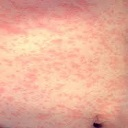Measles: (3, 27, 128, 106)
